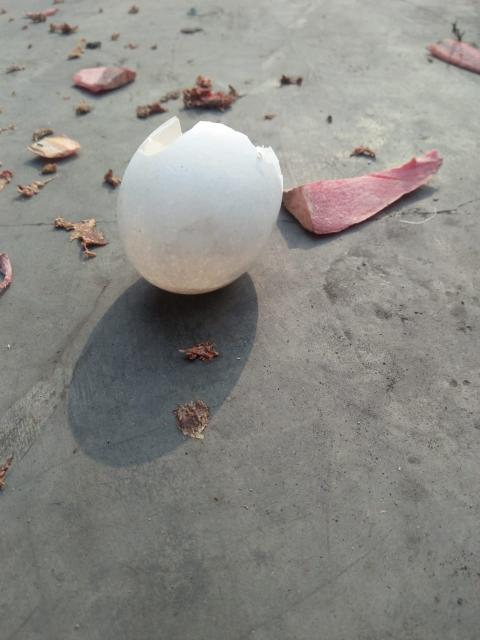Roto: (115, 115, 284, 296)
